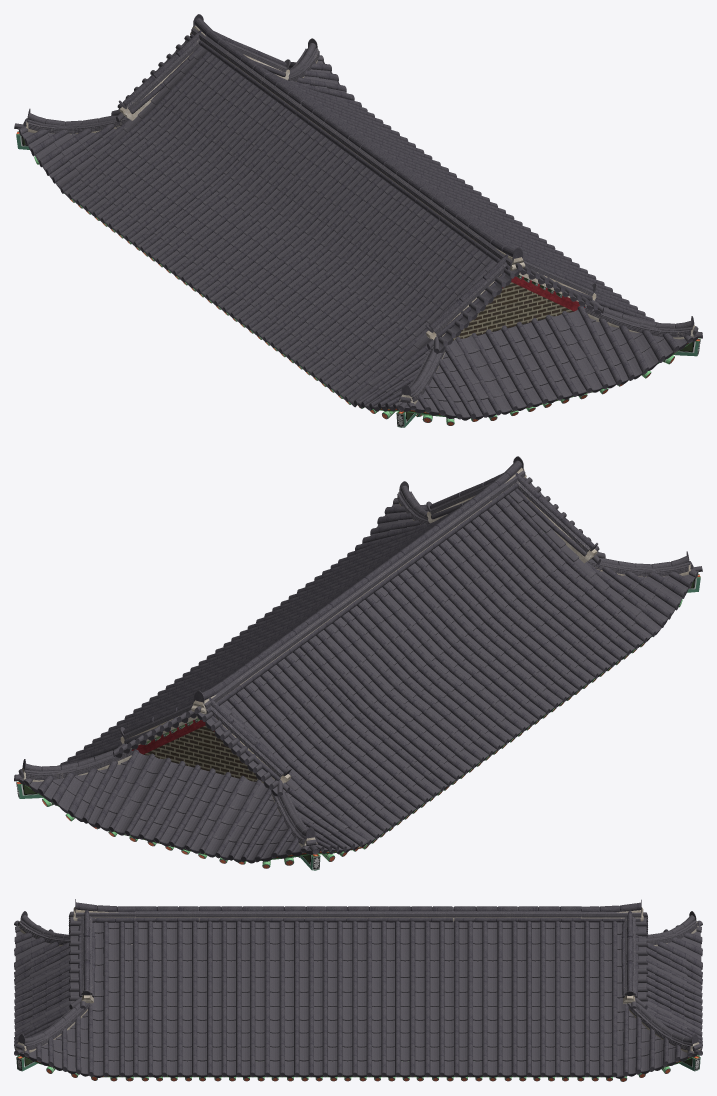
The model's file is SM_R_Jibsacheong_2.fbx.
3 views of the same model, one above another, from view 1: azimuth 30°, elevation 25°; view 2: azimuth 150°, elevation 25°; view 3: azimuth 270°, elevation 25° (orthographic). The views are drawn at different scales.
Parts seen in each view (by area): view 1: SM_R_Jibsacheong_2; view 2: SM_R_Jibsacheong_2; view 3: SM_R_Jibsacheong_2.
Boxes of the visible parts, x1,y1,x2,y2 form: SM_R_Jibsacheong_2: (14, 14, 702, 427); SM_R_Jibsacheong_2: (14, 456, 702, 870); SM_R_Jibsacheong_2: (14, 899, 702, 1081).
Bounding box in the file's own units: 883 × 1932 × 435.
8 materials, 8 textured.
